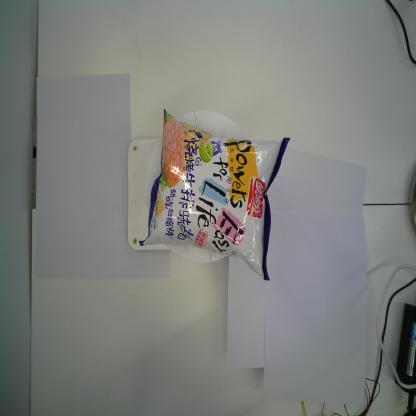Puffed Food: (139, 107, 292, 281)
